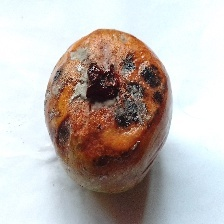guava: (42, 45, 191, 217)
